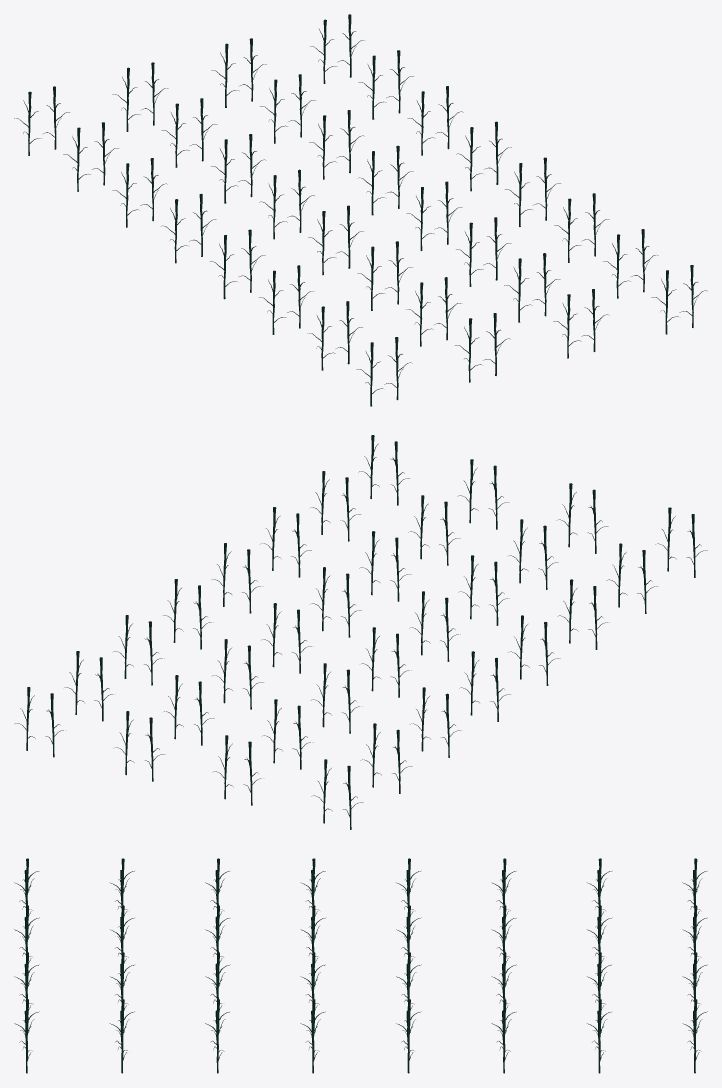
File: greenhouse_stems.obj
3 views of the same model, one above another, from view 1: azimuth 30°, elevation 25°; view 2: azimuth 150°, elevation 25°; view 3: azimuth 270°, elevation 25° (orthographic). The views are drawn at different scales.
Parts seen in each view (by area): view 1: Material_4.004; view 2: Material_4.004; view 3: Material_4.004.
Boxes of the visible parts, bbox=[...] form: Material_4.004: bbox=[14, 14, 707, 406]; Material_4.004: bbox=[15, 435, 707, 829]; Material_4.004: bbox=[14, 858, 707, 1073].
Bounding box in the file's own units: 13.98 × 2.44 × 25.02.
Materials: 1 (1 with a texture image).
